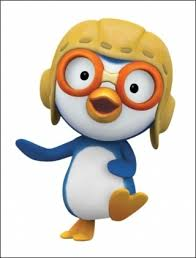Pororo: (15, 19, 177, 244)
